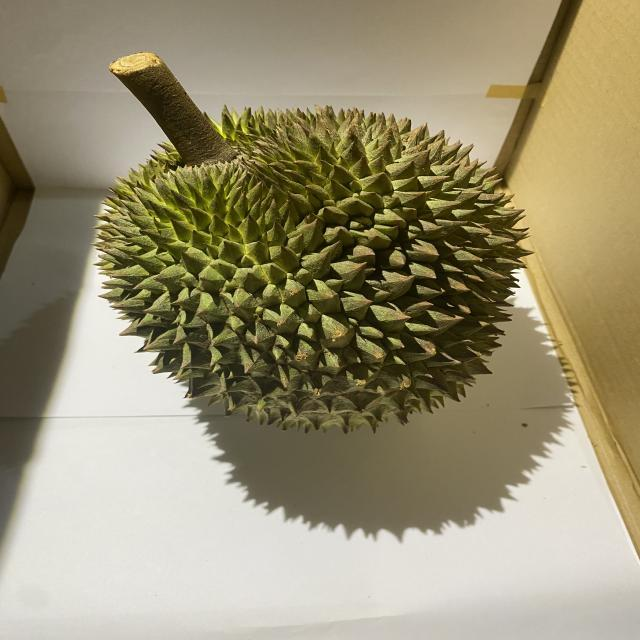immature: (87, 104, 539, 438)
